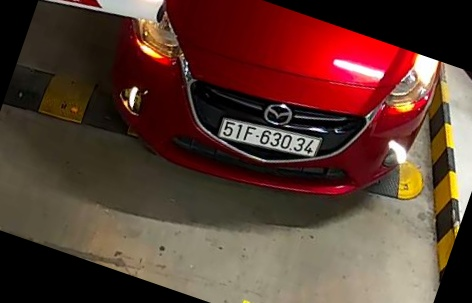plate: (218, 114, 325, 171)
